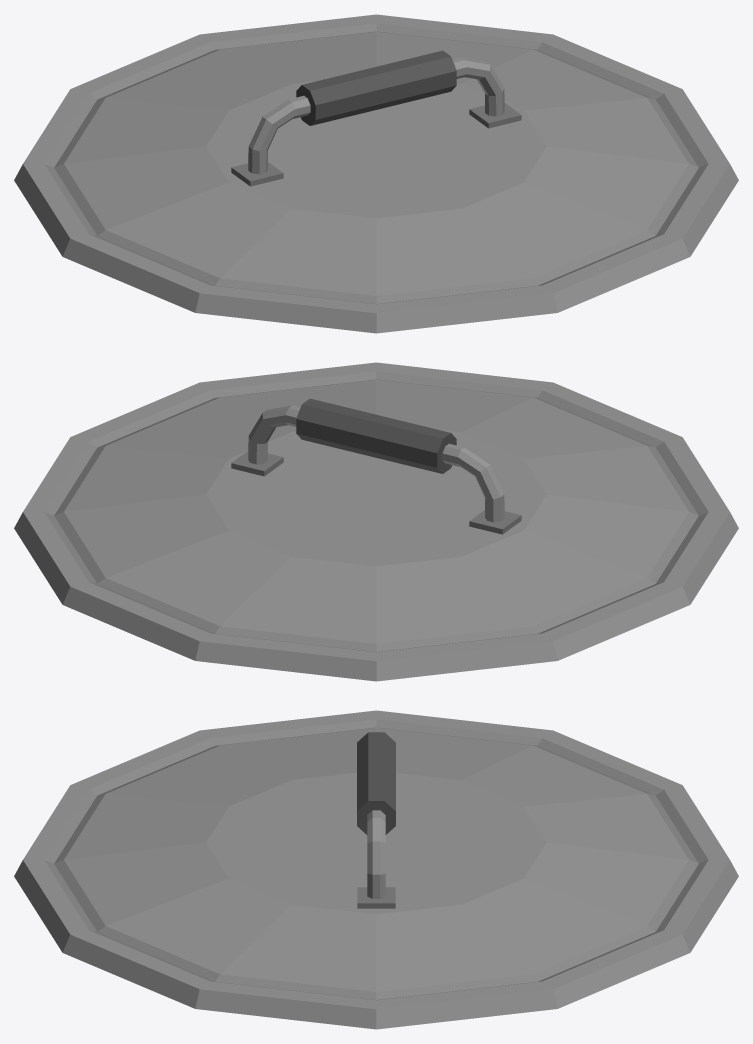
File: PanPart_02_C1.fbx
The picture shows the model from 3 angles, top to bottom: view 1: azimuth 30°, elevation 25°; view 2: azimuth 150°, elevation 25°; view 3: azimuth 270°, elevation 25°; orthographic projection.
Parts seen in each view (by area): view 1: PanPart_02_C1; view 2: PanPart_02_C1; view 3: PanPart_02_C1.
Boxes of the visible parts, x1,y1,x2,y2 form: PanPart_02_C1: (14,14,738,333); PanPart_02_C1: (14,362,738,681); PanPart_02_C1: (14,710,738,1029).
Size of the model in its own units: 18.36 by 3.06 by 18.36.
